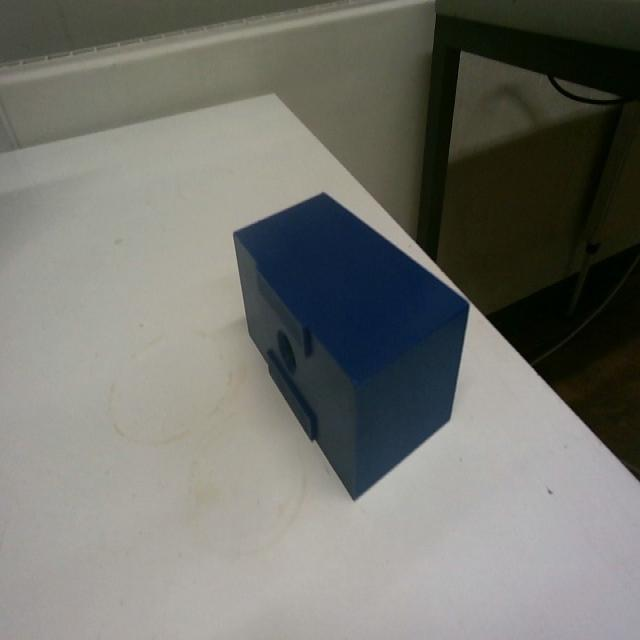Blue Cuboid: (230, 187, 471, 501)
